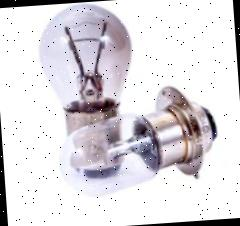lightbulb: (54, 81, 220, 198), (35, 0, 138, 137)
